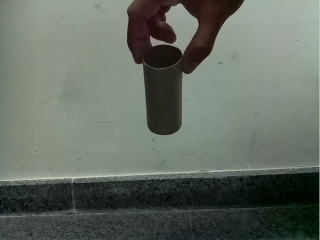rollo papel: (141, 44, 184, 135)
